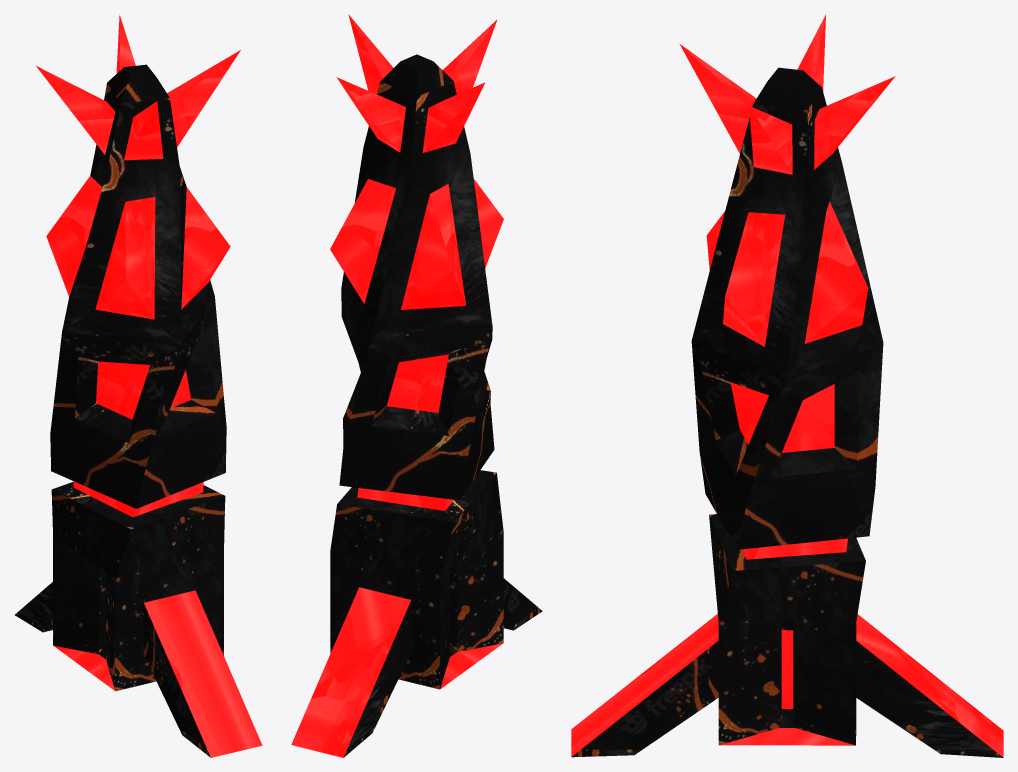
The model's file is track3Building3.glb.
3 renders of one model, left to right at view 1: azimuth 30°, elevation 25°; view 2: azimuth 150°, elevation 25°; view 3: azimuth 270°, elevation 25°, orthographic. The views are drawn at different scales.
Visible parts, largest first — view 1: Cube; view 2: Cube; view 3: Cube.
Boxes of the visible parts, bbox=[...] form: Cube: bbox=[15, 15, 262, 757]; Cube: bbox=[291, 14, 542, 757]; Cube: bbox=[571, 14, 1003, 757].
Bounding box in the file's own units: 2.67 × 9.3 × 5.32.
Materials: 2 (2 with a texture image).
